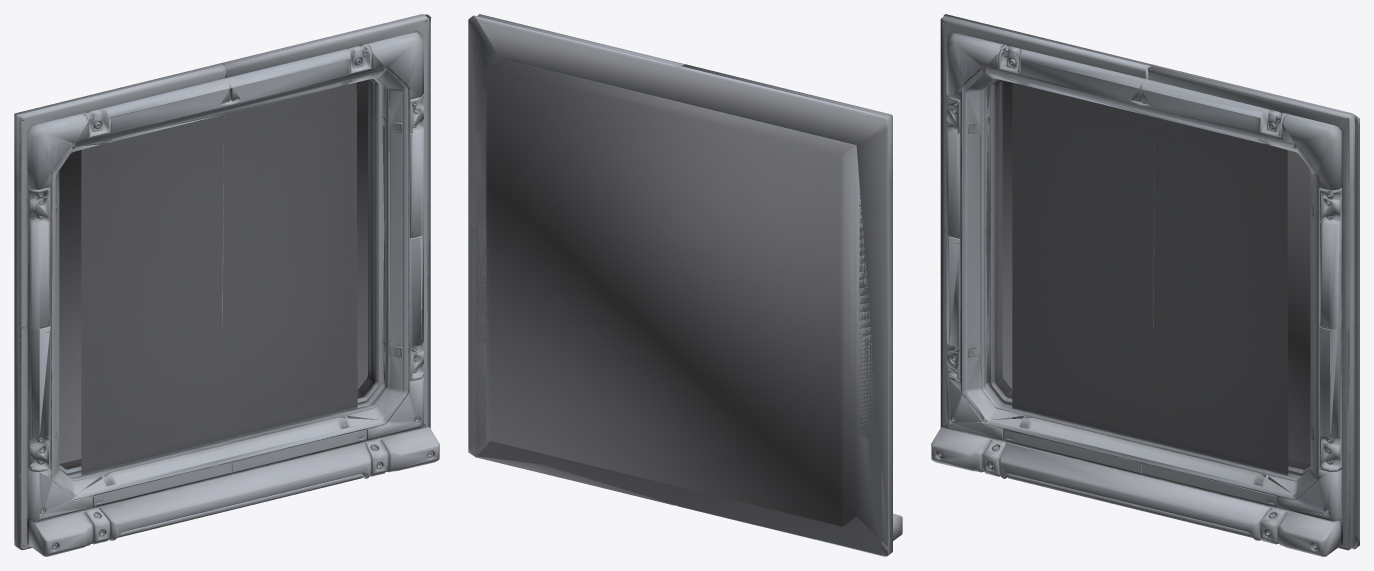
Rendered from tripo_convert_8d4844ec-a9dc-4b6a-ae81-e19ca85f8e66.fbx.
The picture shows the model from 3 angles, left to right: view 1: azimuth 30°, elevation 25°; view 2: azimuth 150°, elevation 25°; view 3: azimuth 330°, elevation 25°; orthographic projection.
Parts seen in each view (by area): view 1: tripo_part_60, tripo_part_0, tripo_part_1, tripo_part_9, tripo_part_45, tripo_part_2, tripo_part_11, tripo_part_6, tripo_part_12, tripo_part_5, tripo_part_3, tripo_part_7 (+7 smaller); view 2: tripo_part_45, tripo_part_62, tripo_part_47, tripo_part_51, tripo_part_11, tripo_part_68, tripo_part_69, tripo_part_76, tripo_part_8, tripo_part_60, tripo_part_12; view 3: tripo_part_60, tripo_part_0, tripo_part_1, tripo_part_9, tripo_part_45, tripo_part_2, tripo_part_12, tripo_part_6, tripo_part_11, tripo_part_3, tripo_part_5, tripo_part_49 (+6 smaller).
Part boxes in pixels (left/top/right/bottom): tripo_part_60: left=81, top=64, right=357, bottom=485; tripo_part_0: left=27, top=32, right=423, bottom=434; tripo_part_1: left=27, top=424, right=439, bottom=556; tripo_part_9: left=55, top=68, right=403, bottom=497; tripo_part_45: left=59, top=14, right=431, bottom=463; tripo_part_2: left=59, top=73, right=389, bottom=481; tripo_part_11: left=14, top=64, right=225, bottom=544; tripo_part_6: left=38, top=398, right=415, bottom=520; tripo_part_12: left=223, top=14, right=429, bottom=424; tripo_part_5: left=76, top=53, right=384, bottom=142; tripo_part_3: left=369, top=234, right=423, bottom=439; tripo_part_7: left=27, top=326, right=51, bottom=521; tripo_part_45: left=468, top=15, right=887, bottom=546; tripo_part_62: left=474, top=15, right=890, bottom=547; tripo_part_47: left=475, top=18, right=673, bottom=504; tripo_part_51: left=818, top=183, right=881, bottom=555; tripo_part_11: left=682, top=64, right=892, bottom=330; tripo_part_68: left=476, top=225, right=889, bottom=556; tripo_part_69: left=634, top=481, right=814, bottom=538; tripo_part_76: left=683, top=491, right=817, bottom=538; tripo_part_8: left=701, top=328, right=892, bottom=556; tripo_part_60: left=540, top=453, right=820, bottom=539; tripo_part_12: left=477, top=14, right=682, bottom=65; tripo_part_60: left=1012, top=82, right=1288, bottom=490; tripo_part_0: left=946, top=32, right=1342, bottom=434; tripo_part_1: left=931, top=424, right=1342, bottom=556; tripo_part_9: left=966, top=68, right=1314, bottom=494; tripo_part_45: left=980, top=80, right=1359, bottom=549; tripo_part_2: left=980, top=78, right=1310, bottom=481; tripo_part_12: left=1147, top=66, right=1354, bottom=544; tripo_part_6: left=948, top=395, right=1324, bottom=513; tripo_part_11: left=940, top=16, right=1151, bottom=424; tripo_part_3: left=1279, top=327, right=1342, bottom=521; tripo_part_5: left=985, top=54, right=1294, bottom=143; tripo_part_49: left=962, top=88, right=984, bottom=420.
Size of the model in its own units: 0.9995 by 0.9995 by 0.1567.
1 material, 1 textured.
